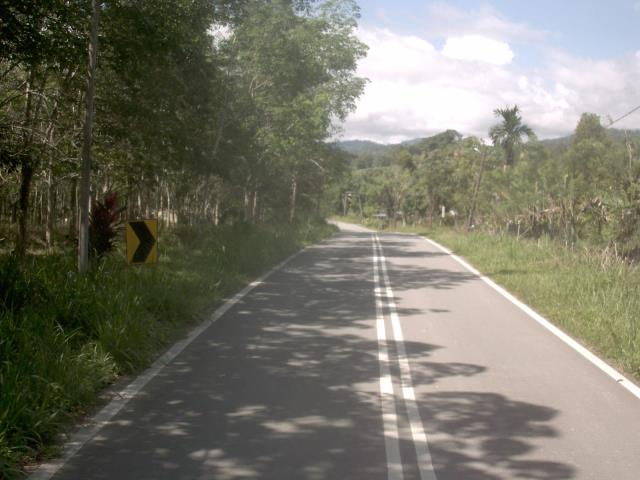traffic_sign: (115, 210, 167, 279)
